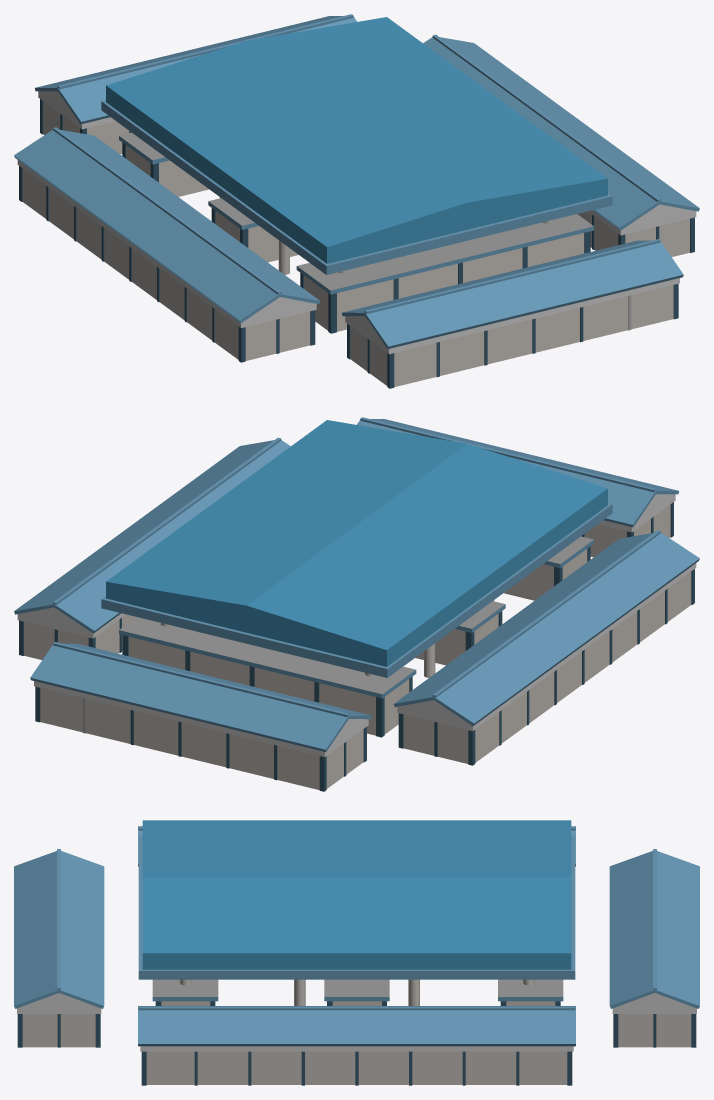
The model's file is Building_mode_L2_Market001.fbx.
3 views of the same model, one above another, from view 1: azimuth 30°, elevation 25°; view 2: azimuth 150°, elevation 25°; view 3: azimuth 270°, elevation 25° (orthographic). The views are drawn at different scales.
Visible parts, largest first — view 1: Building_mode_L2_Market001; view 2: Building_mode_L2_Market001; view 3: Building_mode_L2_Market001.
Part boxes in pixels (<box>): Building_mode_L2_Market001: <box>14,14,699,388</box>; Building_mode_L2_Market001: <box>14,417,699,791</box>; Building_mode_L2_Market001: <box>14,820,699,1085</box>.
Size of the model in its own units: 17.71 by 3.84 by 23.57.
